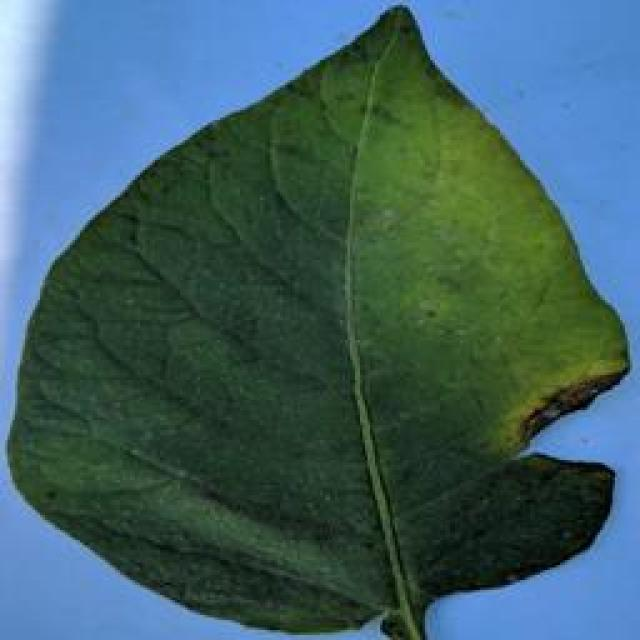Potato_Late_Blight: (9, 1, 618, 632)
